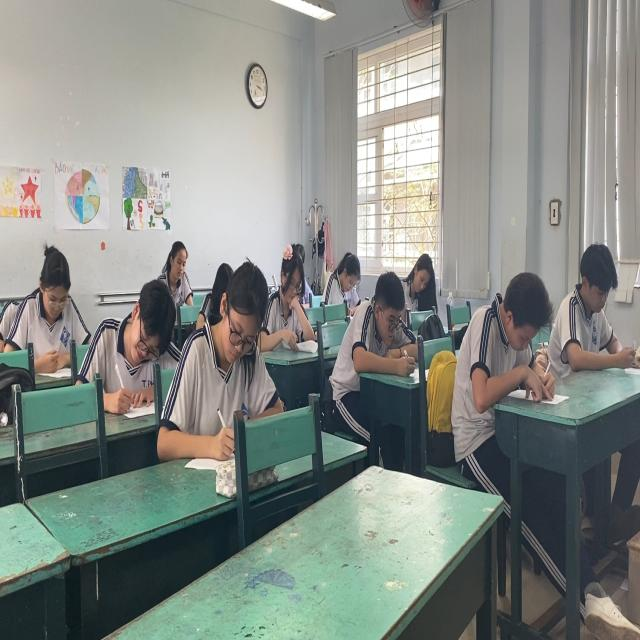not_cheating: (183, 252, 274, 432), (454, 270, 548, 410), (549, 238, 636, 383), (12, 248, 84, 372), (99, 304, 179, 411), (351, 268, 412, 366), (269, 245, 321, 342), (156, 235, 197, 314), (327, 252, 368, 314), (397, 242, 434, 307)
